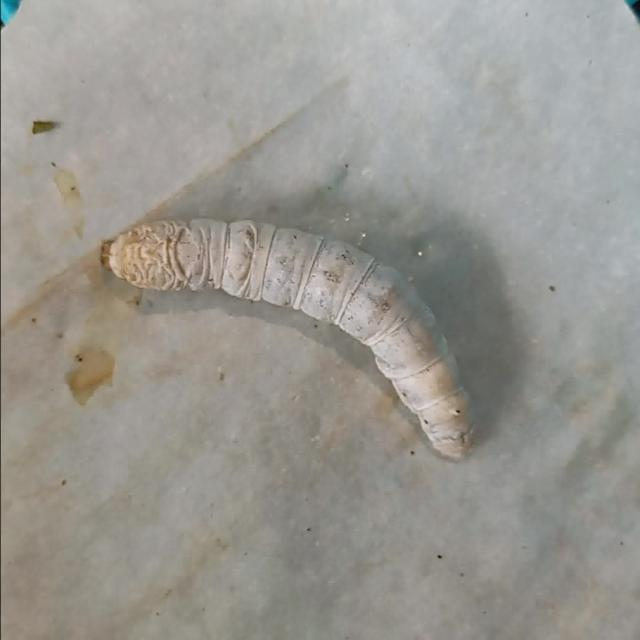Grasserie: (88, 187, 500, 472)
